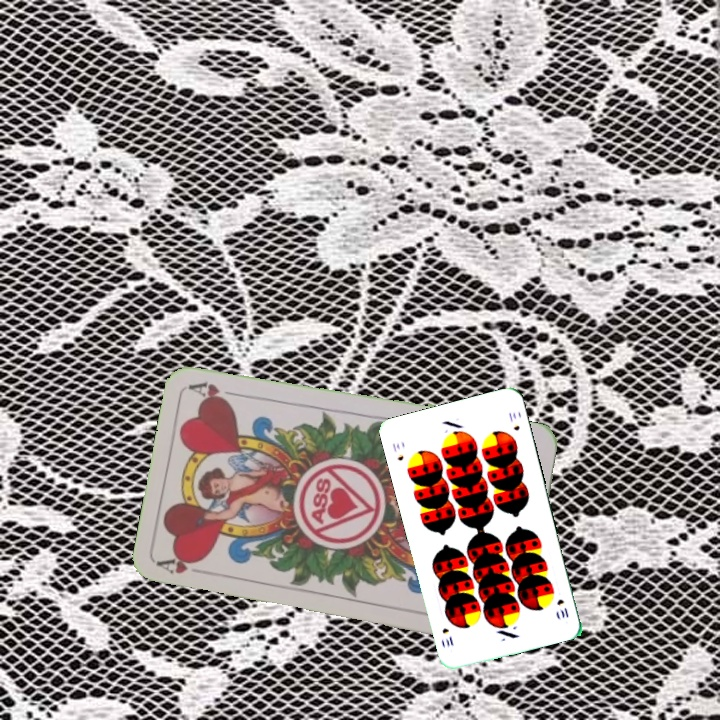HA: (155, 551, 206, 577)
S10: (553, 595, 571, 621), (388, 438, 406, 463)
